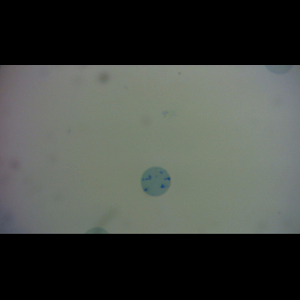aggregate reticulocyte: (140, 166, 172, 197)
